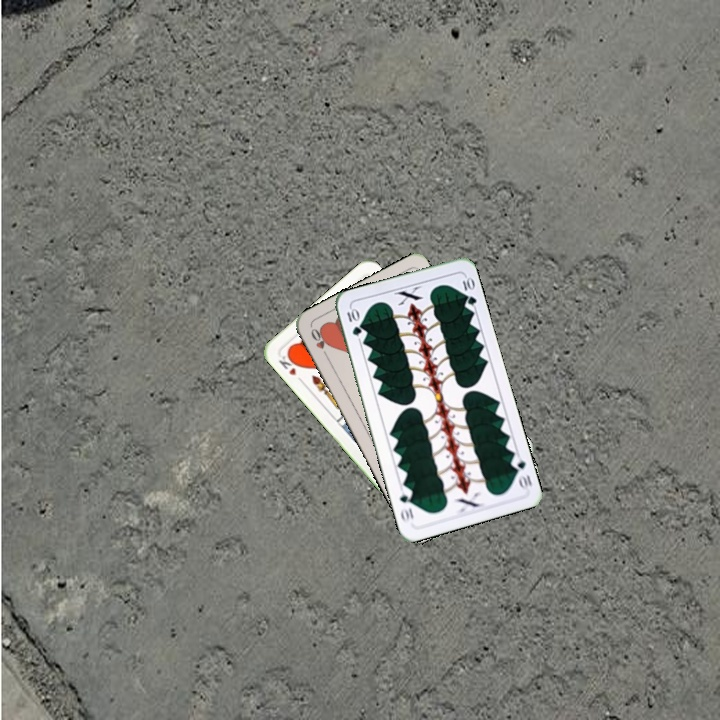G10: (507, 452, 534, 491), (343, 304, 364, 338)
HK: (274, 349, 302, 378)
HO: (307, 324, 331, 362)
